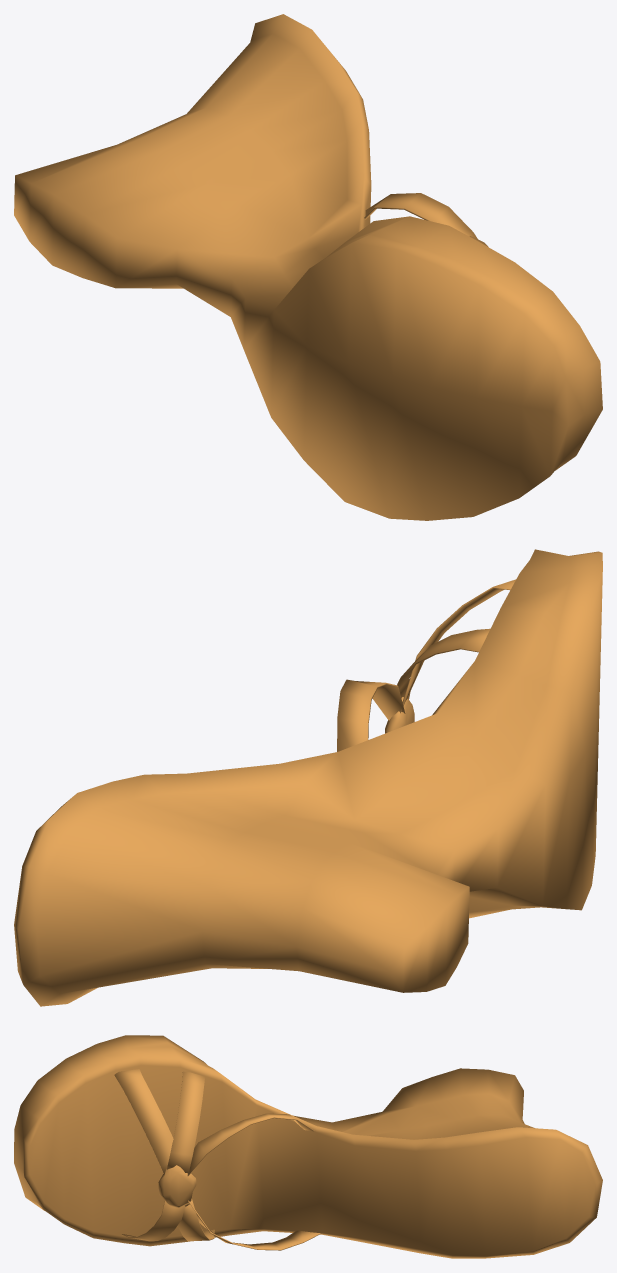
Rendered from shoe3_6.dae.
3 views of the same model, one above another, from view 1: azimuth 30°, elevation 25°; view 2: azimuth 150°, elevation 25°; view 3: azimuth 270°, elevation 25° (orthographic). The views are drawn at different scales.
Parts seen in each view (by area): view 1: shoe3_019; view 2: shoe3_019; view 3: shoe3_019.
Boxes of the visible parts, left/top/right/bottom form: shoe3_019: left=14, top=14, right=602, bottom=520; shoe3_019: left=14, top=549, right=602, bottom=1006; shoe3_019: left=14, top=1035, right=602, bottom=1258.
Bounding box in the file's own units: 0.1426 × 0.3367 × 0.1204.
